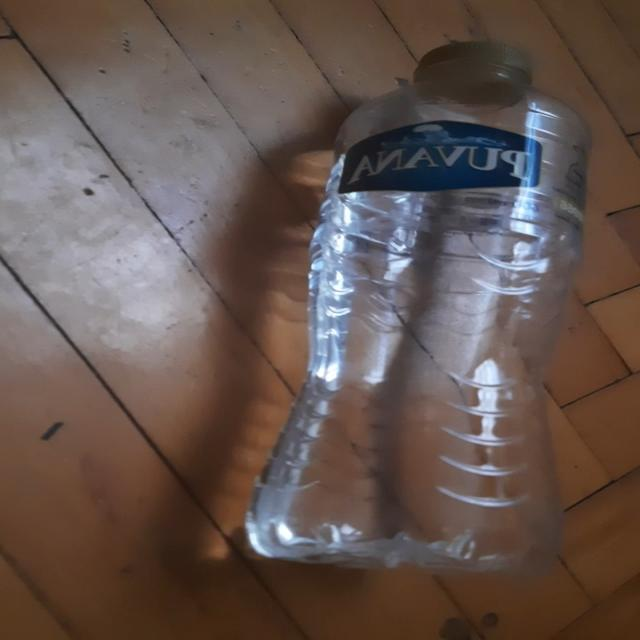Plastic: (244, 41, 593, 582)
